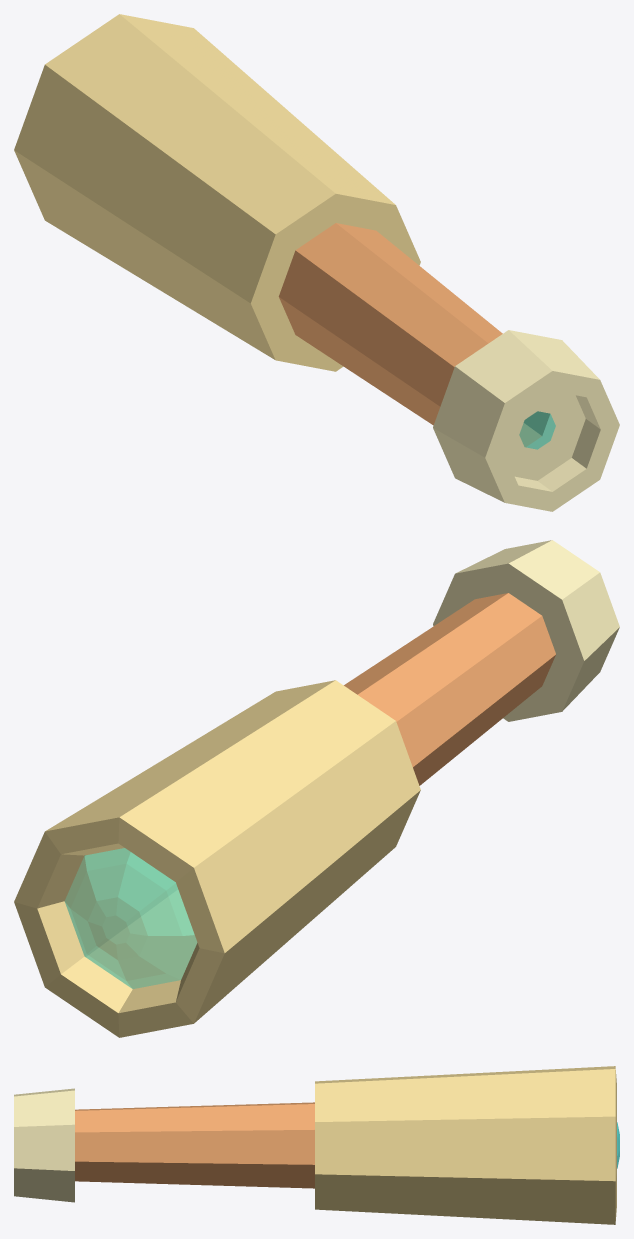
Rendered from 便携望远镜.fbx.
The picture shows the model from 3 angles, top to bottom: view 1: azimuth 30°, elevation 25°; view 2: azimuth 150°, elevation 25°; view 3: azimuth 270°, elevation 25°; orthographic projection. The views are drawn at different scales.
Visible parts, largest first — view 1: 圆环.001; view 2: 圆环.001; view 3: 圆环.001.
Boxes of the visible parts, left/top/right/bottom form: 圆环.001: left=14, top=14, right=619, bottom=511; 圆环.001: left=14, top=540, right=619, bottom=1037; 圆环.001: left=14, top=1066, right=619, bottom=1224.
Size of the model in its own units: 579 by 579 by 2075.
